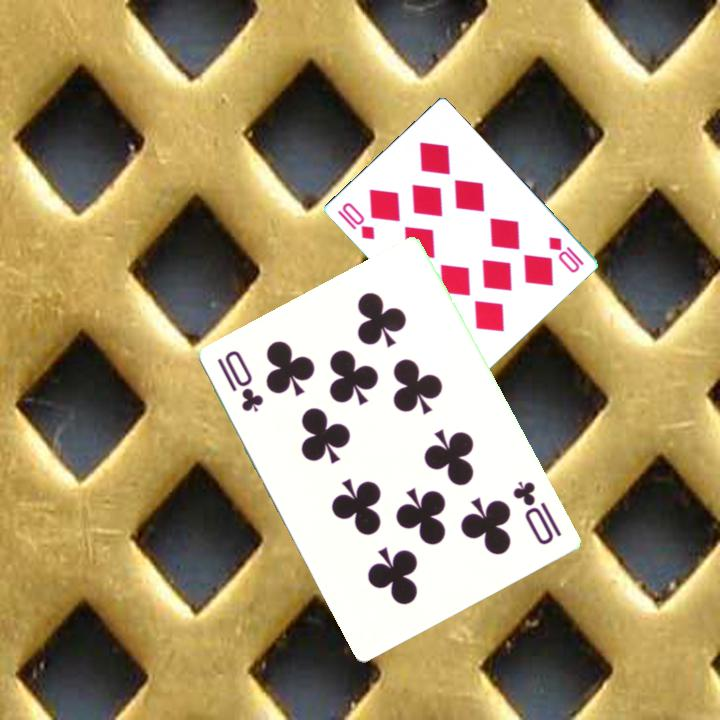10c: (509, 477, 565, 549), (214, 347, 268, 416)
10d: (333, 199, 377, 242), (544, 233, 586, 276)
